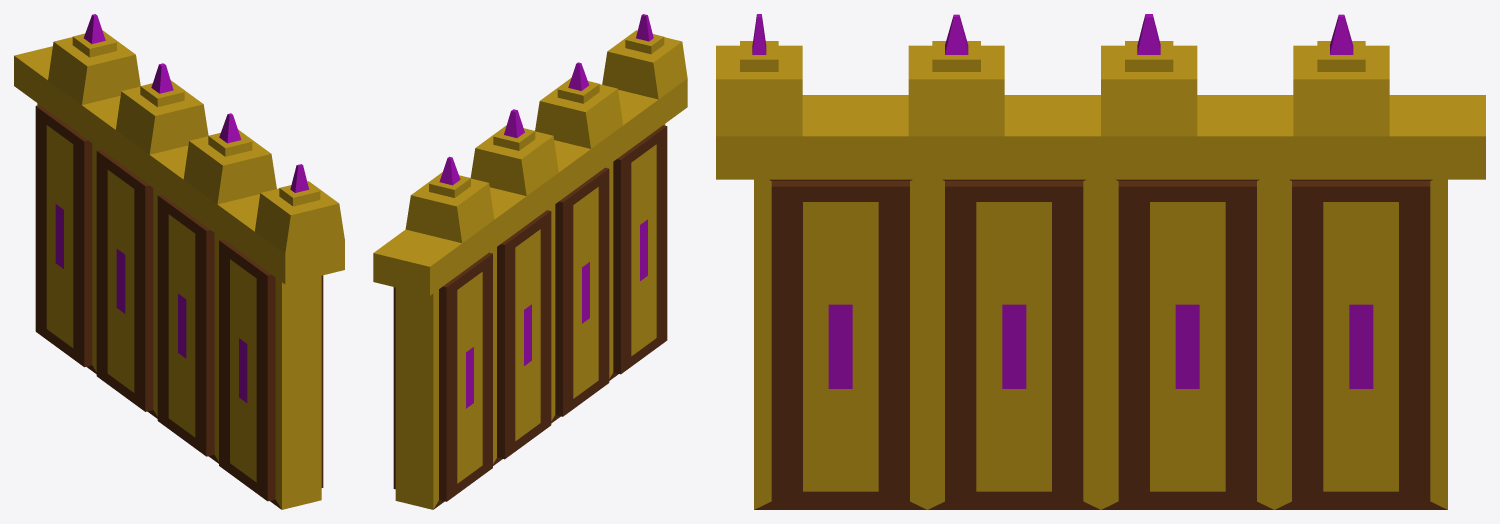
File: wall_segment5.glb
3 renders of one model, left to right at view 1: azimuth 30°, elevation 25°; view 2: azimuth 150°, elevation 25°; view 3: azimuth 270°, elevation 25°, orthographic. The views are drawn at different scales.
Parts seen in each view (by area): view 1: Cube.005; view 2: Cube.005; view 3: Cube.005.
Boxes of the visible parts, bbox=[...] form: Cube.005: bbox=[14, 14, 344, 509]; Cube.005: bbox=[373, 14, 687, 509]; Cube.005: bbox=[716, 14, 1485, 509].
Bounding box in the file's own units: 0.2823 × 1.53 × 2.22.
